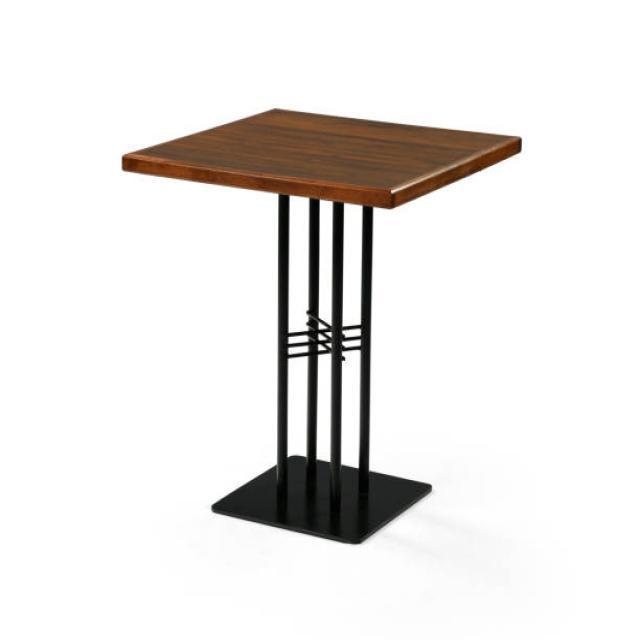table: (120, 106, 522, 545)
